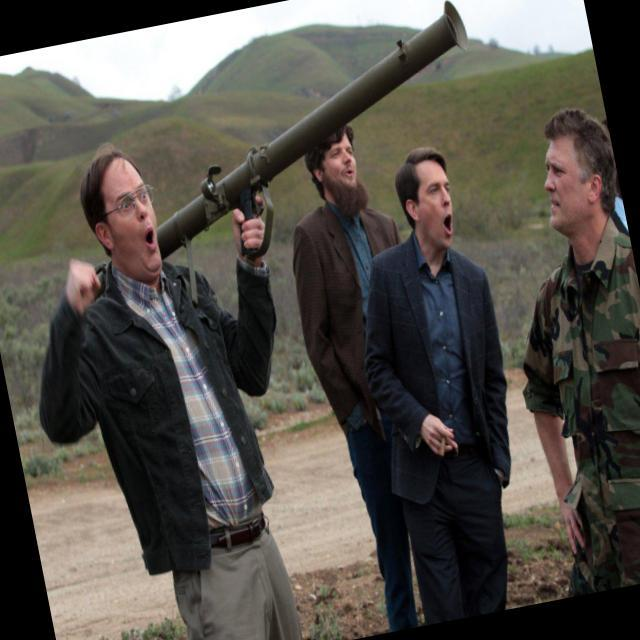rocket: (120, 0, 497, 262)
